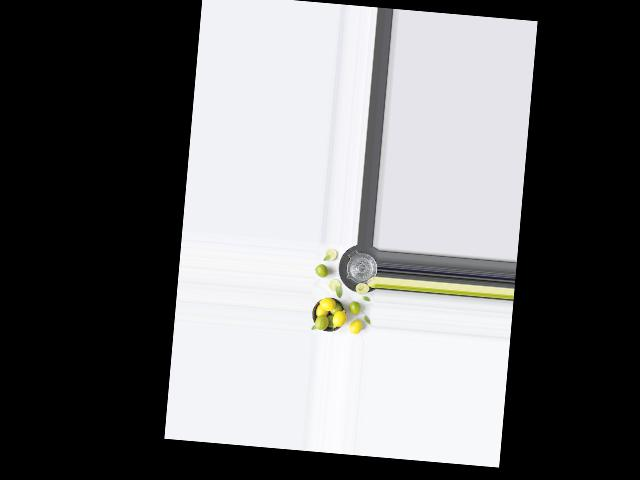lemon: (315, 263, 327, 278)
